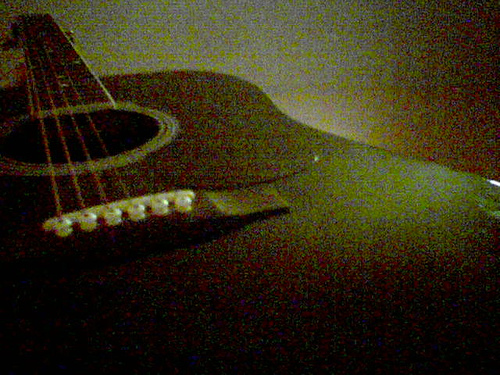guitar: (1, 12, 500, 375)
